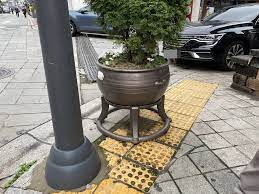guide_blocks: (97, 123, 184, 193), (171, 78, 216, 119)
